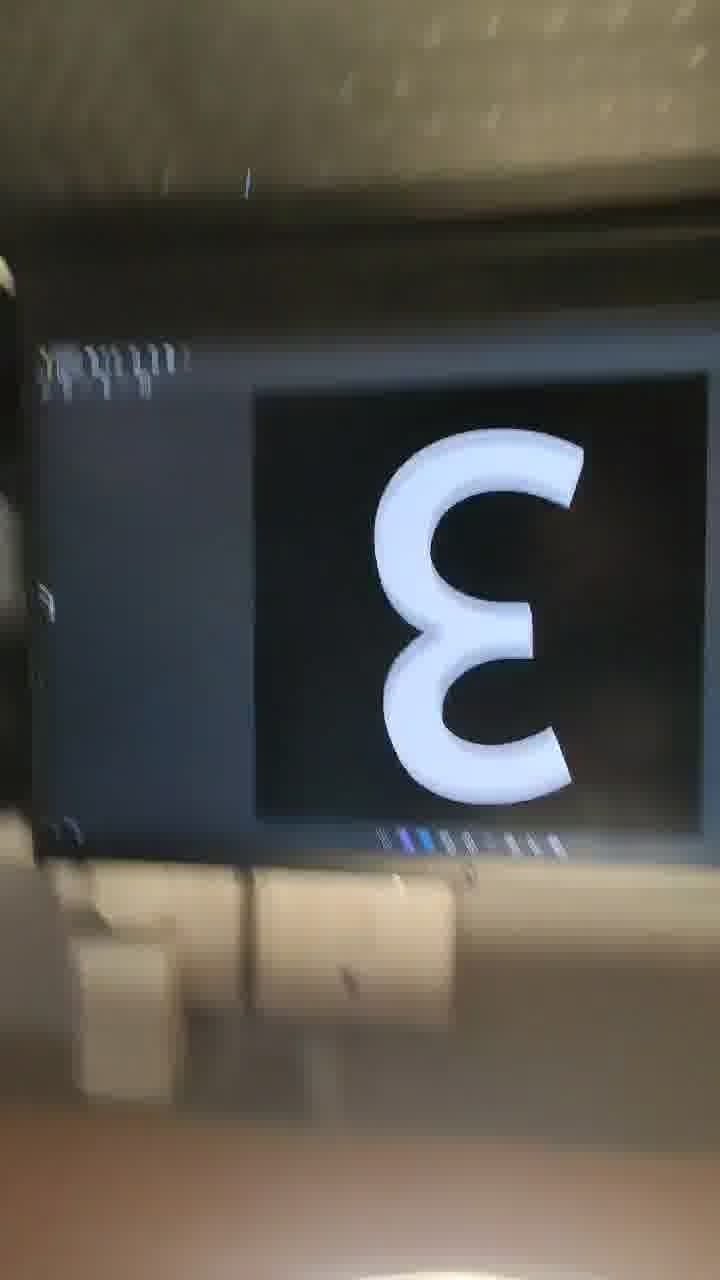three: (320, 397, 641, 841)
